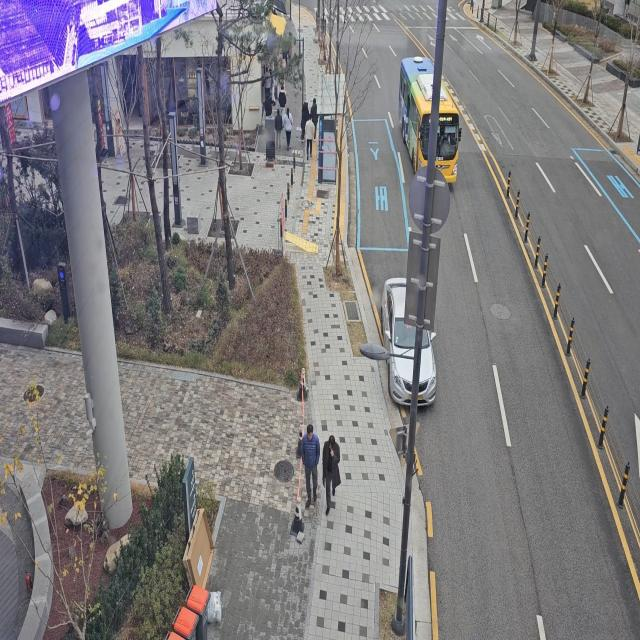Bus: (396, 47, 461, 190)
Car: (378, 272, 440, 416)
